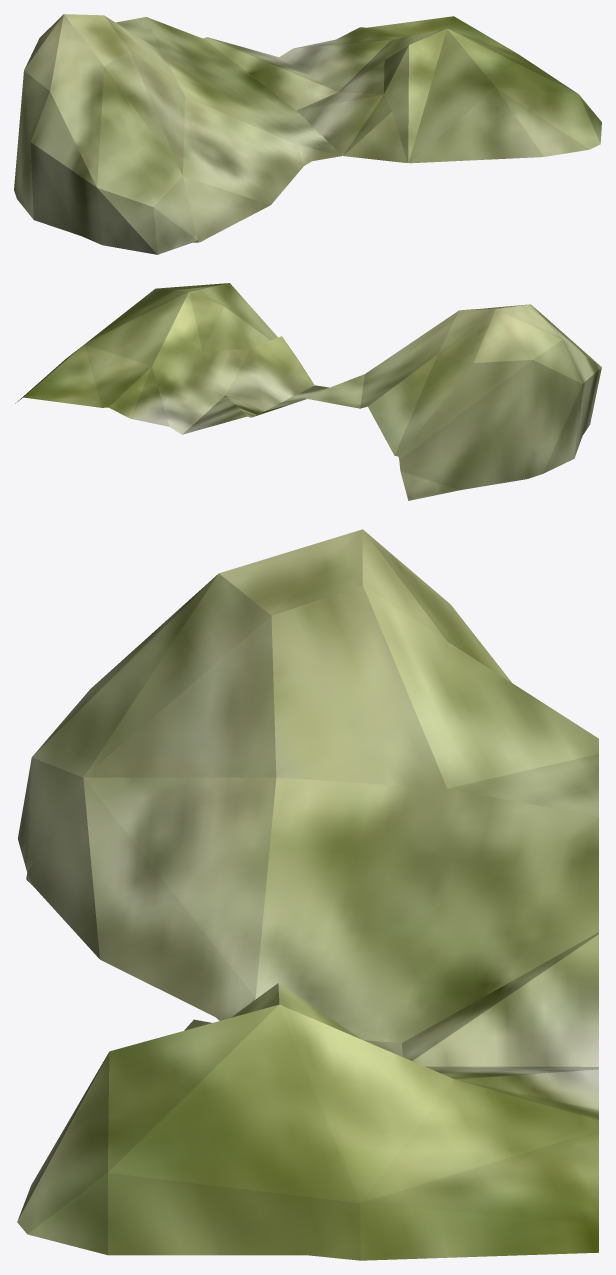
The picture shows the model from 3 angles, top to bottom: view 1: azimuth 30°, elevation 25°; view 2: azimuth 150°, elevation 25°; view 3: azimuth 270°, elevation 25°; orthographic projection. The views are drawn at different scales.
Bounding box in the file's own units: 1.04 × 0.3143 × 0.5329.
Materials: 1 (1 with a texture image).
